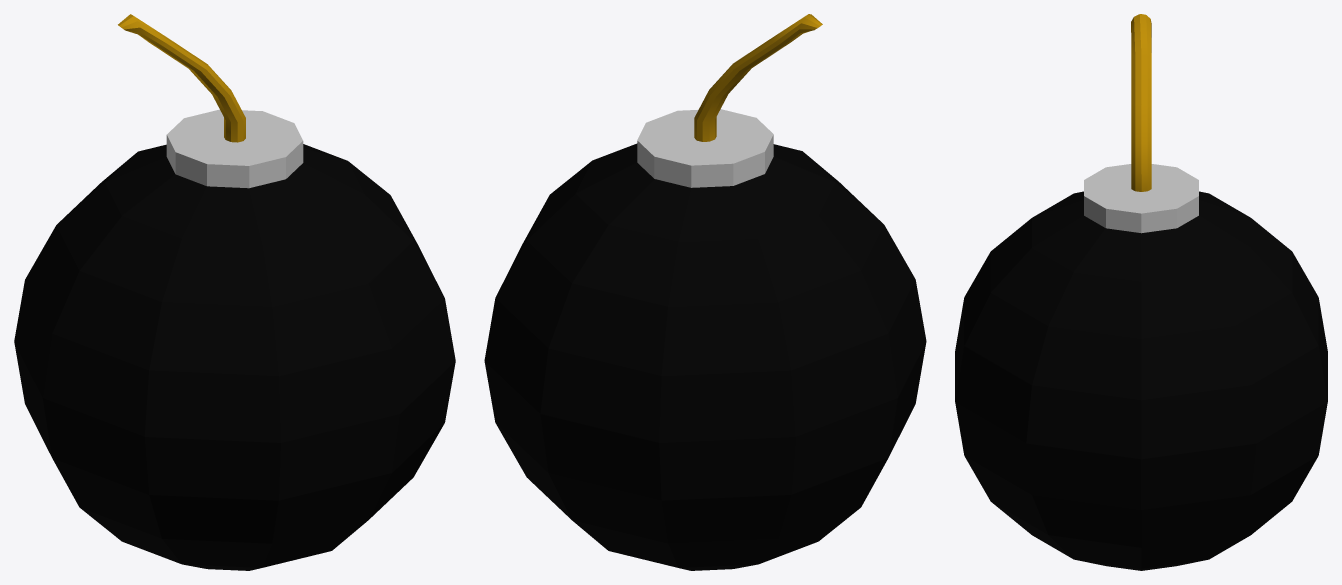
File: explosionTrap.fbx
3 renders of one model, left to right at view 1: azimuth 30°, elevation 25°; view 2: azimuth 150°, elevation 25°; view 3: azimuth 270°, elevation 25°, orthographic. The views are drawn at different scales.
Parts seen in each view (by area): view 1: pSphere1; view 2: pSphere1; view 3: pSphere1.
Part boxes in pixels (box(x1,y1,x2,y2)): pSphere1: box(14, 14, 455, 570); pSphere1: box(484, 14, 926, 570); pSphere1: box(955, 14, 1327, 570).
Size of the model in its own units: 2 by 2.79 by 1.9.
